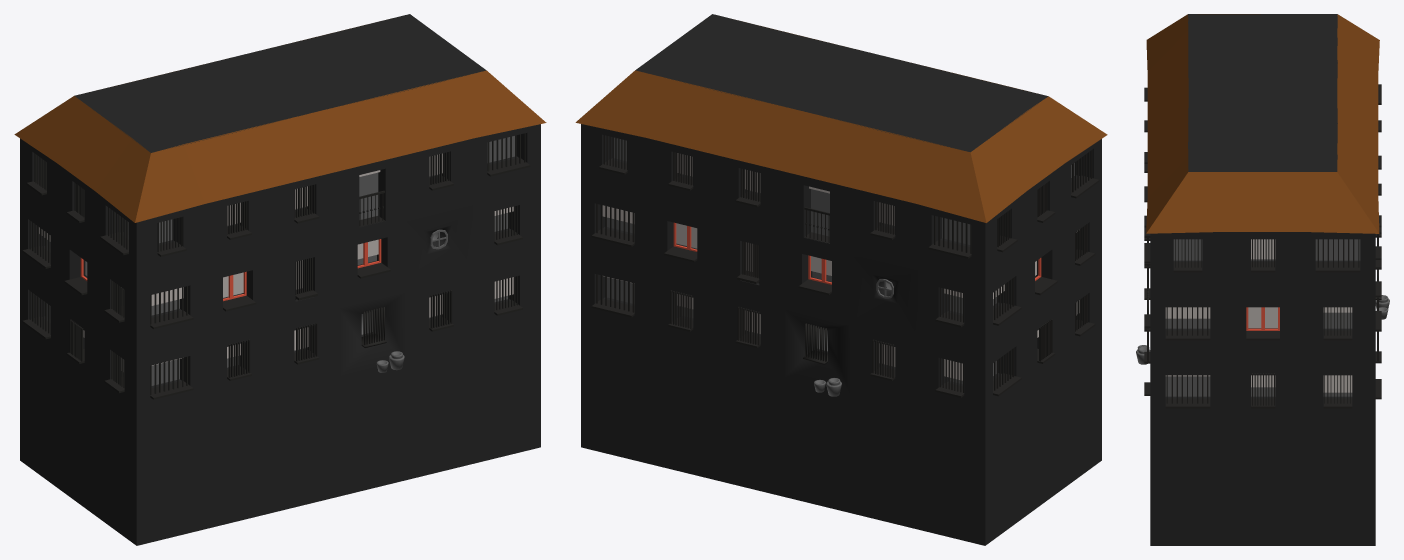
The model's file is casa procedural_relleno_Con sotano_8.fbx.
3 renders of one model, left to right at view 1: azimuth 30°, elevation 25°; view 2: azimuth 150°, elevation 25°; view 3: azimuth 270°, elevation 25°, orthographic. The views are drawn at different scales.
Parts seen in each view (by area): view 1: Procedural_Building_straight.001; view 2: Procedural_Building_straight.001; view 3: Procedural_Building_straight.001.
Boxes of the visible parts, left/top/right/bottom form: Procedural_Building_straight.001: left=14, top=14, right=546, bottom=545; Procedural_Building_straight.001: left=575, top=14, right=1107, bottom=545; Procedural_Building_straight.001: left=1136, top=14, right=1389, bottom=545.
Bounding box in the file's own units: 616 × 526 × 338.
